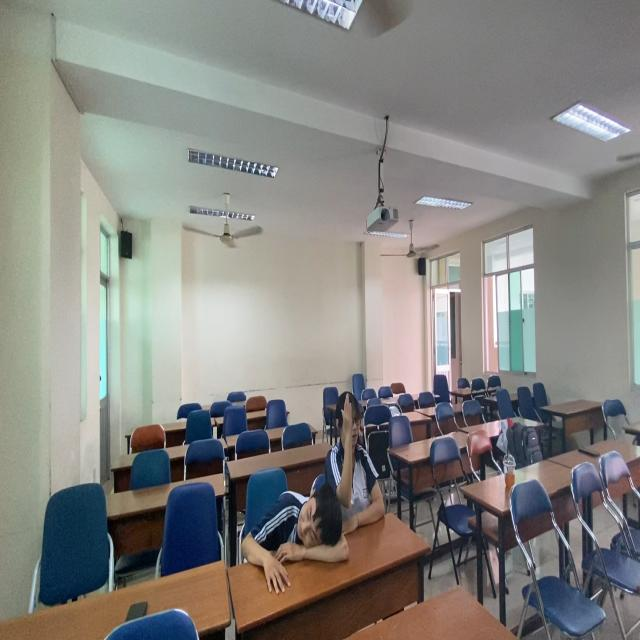raise_hand: (326, 388, 390, 537)
sleep: (243, 491, 348, 575)
